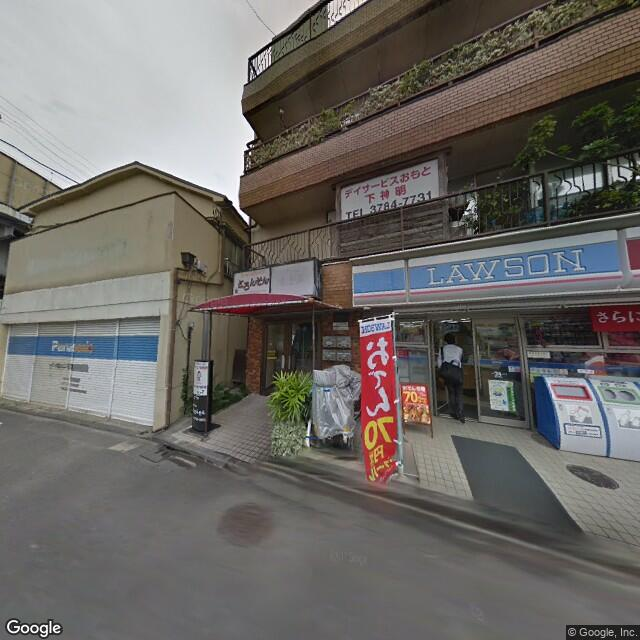lawson: (351, 222, 639, 307)
